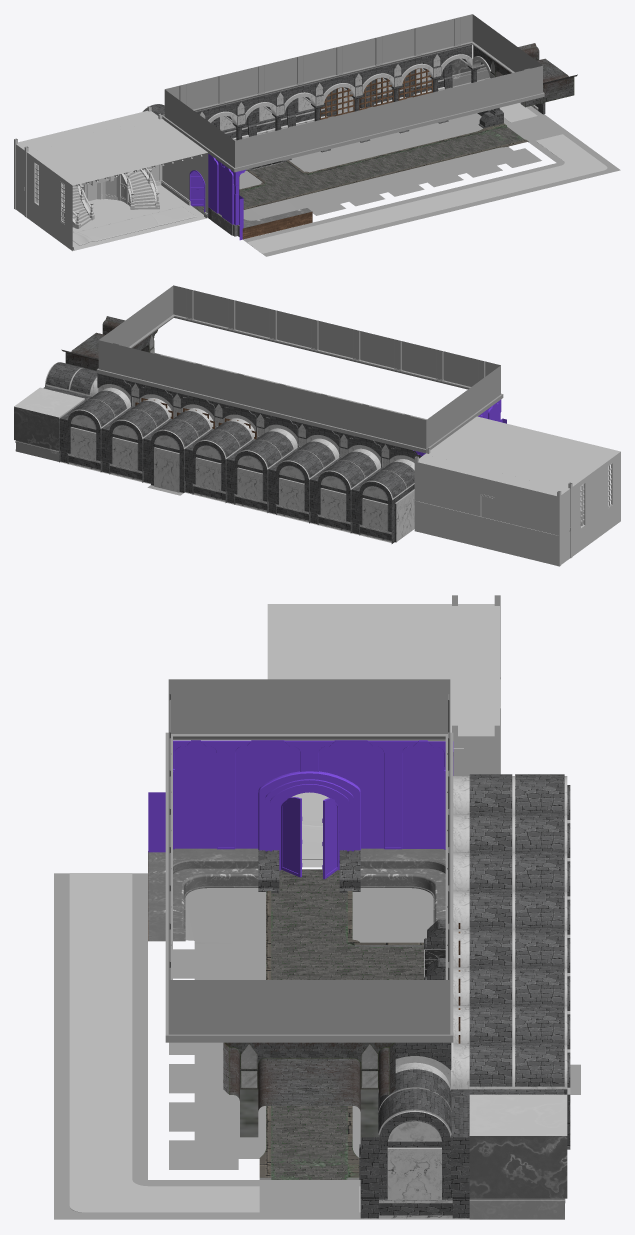
Rendered from FBX_DANGER.fbx.
The picture shows the model from 3 angles, top to bottom: view 1: azimuth 30°, elevation 25°; view 2: azimuth 150°, elevation 25°; view 3: azimuth 270°, elevation 25°; orthographic projection. The views are drawn at different scales.
Visible parts, largest first — view 1: SM_Wall2, SM_Sol_Cour_04, SM_Sol_Cour_08, SM_Sol_Cour_02, SM_Sol_Cour_07, SM_Wall3, SM_Sol_Cour_03, SM_Sommet_Cour_08, SM_Sommet_Cour_05, SM_Sommet_Cour_09, SM_Sommet_Cour_12, SM_Sommet_Cour_06 (+28 smaller); view 2: SM_Walls_floor, SM_Wall2, SM_Wall3, SM_Atlas_3_02, SM_Sommet_Cour_05, SM_Sommet_Cour_08, SM_Sommet_Cour_01, SM_Sommet_Cour_04, SM_Sommet_Cour_06, SM_Sommet_Cour_09, SM_Sommet_Cour_12, SM_Sommet_Cour_03 (+33 smaller); view 3: SM_Sol_Cour_08, SM_Wall2, SM_Sol_Cour_04, SM_Sol_Cour_02, SM_Sommet_Cour_02, SM_Sommet_Cour_06, SM_Sol_Cour_07, SM_Atlas_3_02, SM_Atlas_3_04, SM_Atlas_1_41, SM_Atlas_3_08, SM_Atlas_1_5_8 (+33 smaller).
Boxes of the visible parts, box(x1,y1,x2,y2) form: SM_Wall2: box(16, 110, 207, 185); SM_Sol_Cour_04: box(192, 123, 528, 214); SM_Sol_Cour_08: box(247, 134, 607, 253); SM_Sol_Cour_02: box(243, 147, 541, 220); SM_Sol_Cour_07: box(243, 123, 620, 256); SM_Wall3: box(16, 144, 72, 250); SM_Sol_Cour_03: box(289, 113, 482, 172); SM_Sommet_Cour_08: box(449, 65, 542, 115); SM_Sommet_Cour_05: box(379, 14, 472, 63); SM_Sommet_Cour_09: box(293, 107, 371, 153); SM_Sommet_Cour_12: box(371, 88, 449, 134); SM_Sommet_Cour_06: box(164, 90, 234, 167); SM_Walls_floor: box(417, 462, 583, 565); SM_Wall2: box(418, 416, 620, 495); SM_Wall3: box(561, 452, 620, 564); SM_Atlas_3_02: box(14, 387, 84, 461); SM_Sommet_Cour_05: box(98, 340, 197, 393); SM_Sommet_Cour_08: box(173, 285, 272, 337); SM_Sommet_Cour_01: box(198, 364, 281, 413); SM_Sommet_Cour_04: box(281, 385, 363, 433); SM_Sommet_Cour_06: box(426, 365, 500, 448); SM_Sommet_Cour_09: box(356, 330, 438, 378); SM_Sommet_Cour_12: box(273, 309, 356, 357); SM_Sommet_Cour_03: box(364, 405, 426, 448); SM_Sol_Cour_08: box(69, 873, 259, 1212); SM_Wall2: box(267, 604, 499, 736); SM_Sol_Cour_04: box(259, 869, 423, 1179); SM_Sol_Cour_02: box(169, 888, 265, 1169); SM_Sommet_Cour_02: box(168, 980, 450, 1034); SM_Sommet_Cour_06: box(168, 679, 450, 733); SM_Sol_Cour_07: box(54, 873, 309, 1219); SM_Atlas_3_02: box(469, 1094, 567, 1219); SM_Atlas_3_04: box(223, 1042, 395, 1137); SM_Atlas_1_41: box(379, 1112, 450, 1199); SM_Atlas_3_08: box(148, 848, 258, 941); SM_Atlas_1_5_8: box(451, 1042, 567, 1089).
Size of the model in its own units: 5655 by 1039 by 2592.
